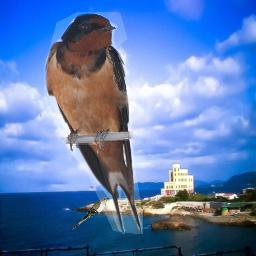Cuckoo: (71, 197, 111, 231)
Swallow: (44, 12, 143, 234)
